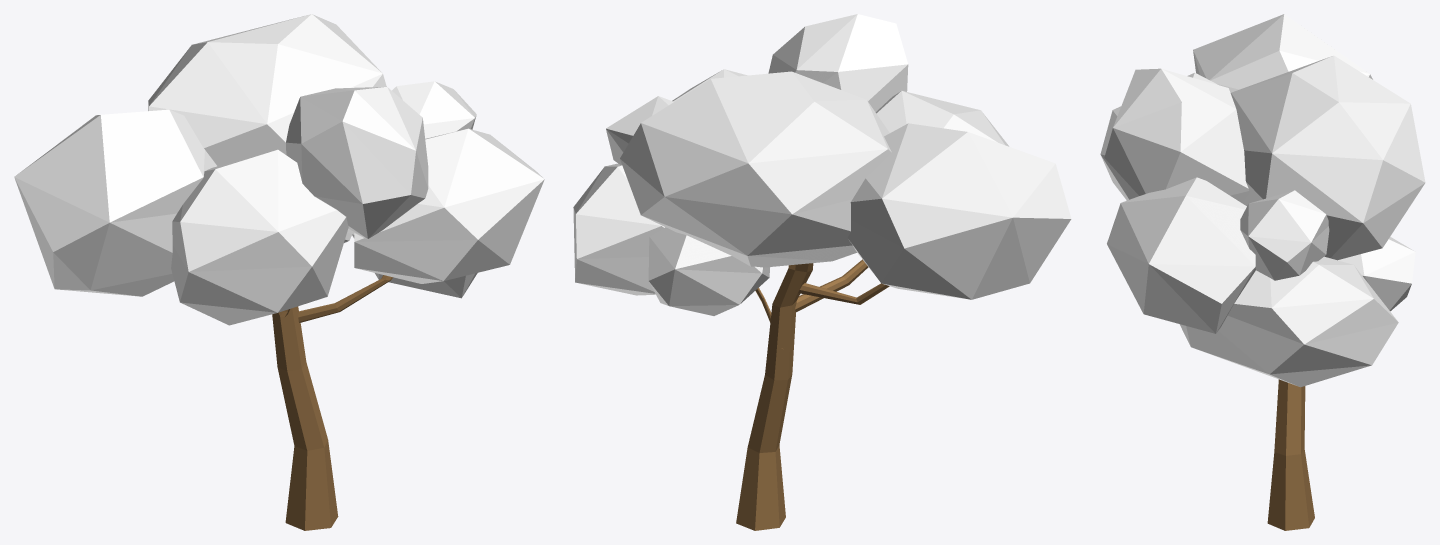
The model's file is Tree(sakura)_2.fbx.
3 views of the same model, side by side, from view 1: azimuth 30°, elevation 25°; view 2: azimuth 150°, elevation 25°; view 3: azimuth 270°, elevation 25° (orthographic). The views are drawn at different scales.
Parts seen in each view (by area): view 1: Tree(sakura)_2; view 2: Tree(sakura)_2; view 3: Tree(sakura)_2.
Boxes of the visible parts, <box> form: Tree(sakura)_2: <box>14,14,544,530</box>; Tree(sakura)_2: <box>573,14,1071,530</box>; Tree(sakura)_2: <box>1100,14,1425,530</box>.
Size of the model in its own units: 347 by 335 by 225.
